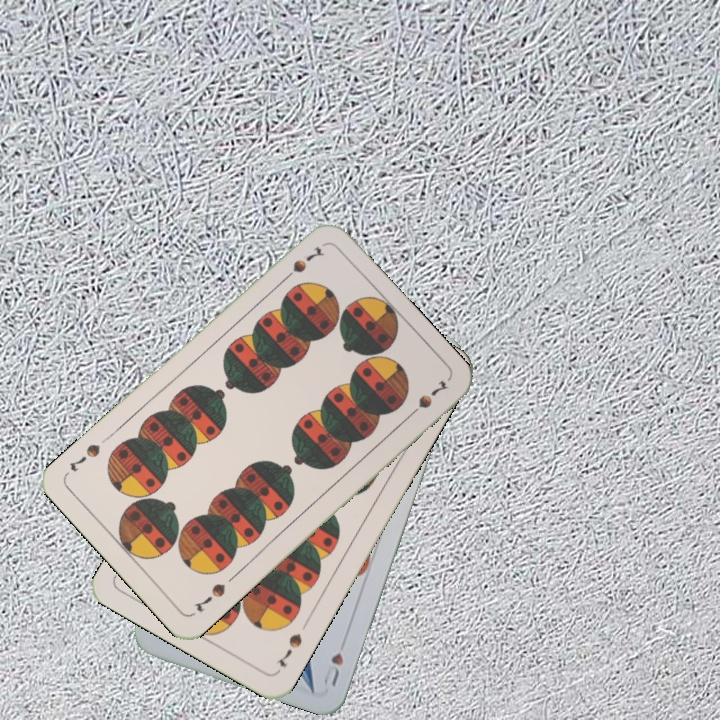HU: (319, 648, 346, 689)
S7: (278, 242, 327, 285), (189, 579, 228, 614), (272, 629, 305, 670)
